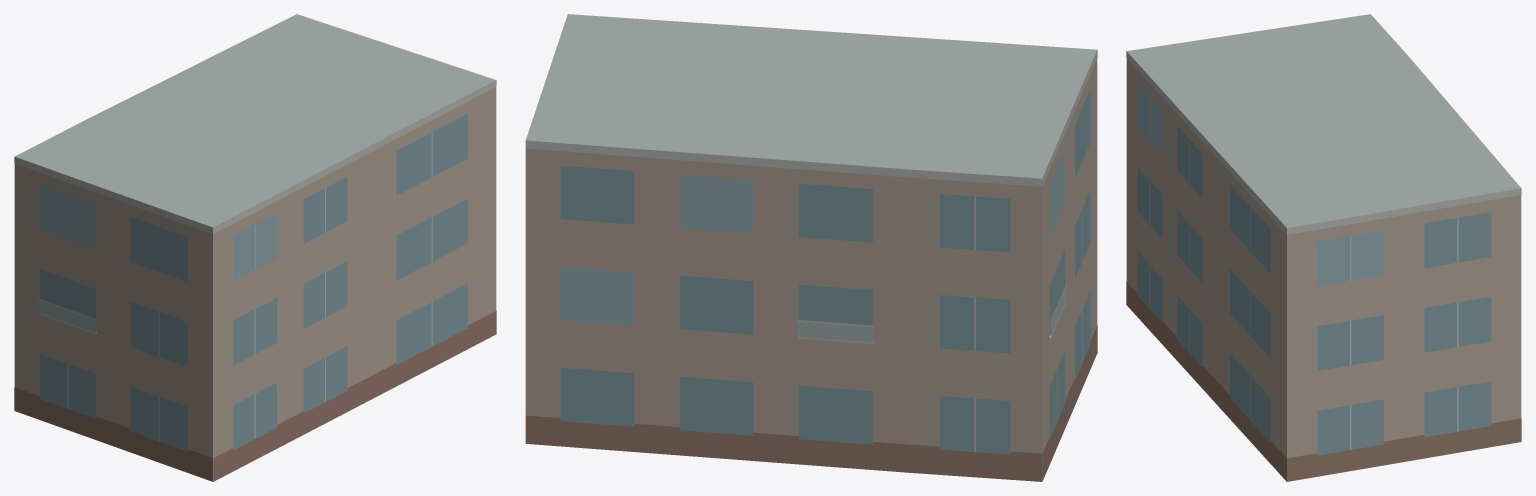
The model's file is survey-upis-32705820.glb.
3 renders of one model, left to right at view 1: azimuth 30°, elevation 25°; view 2: azimuth 150°, elevation 25°; view 3: azimuth 270°, elevation 25°, orthographic. The views are drawn at different scales.
Parts seen in each view (by area): view 1: survey-upis-32705820.tmp; view 2: survey-upis-32705820.tmp; view 3: survey-upis-32705820.tmp.
Boxes of the visible parts, x1=… form: survey-upis-32705820.tmp: x1=14, y1=14, x2=496, y2=481; survey-upis-32705820.tmp: x1=525, y1=14, x2=1097, y2=481; survey-upis-32705820.tmp: x1=1126, y1=14, x2=1521, y2=481.
Bounding box in the file's own units: 16.57 × 9.15 × 12.92.
